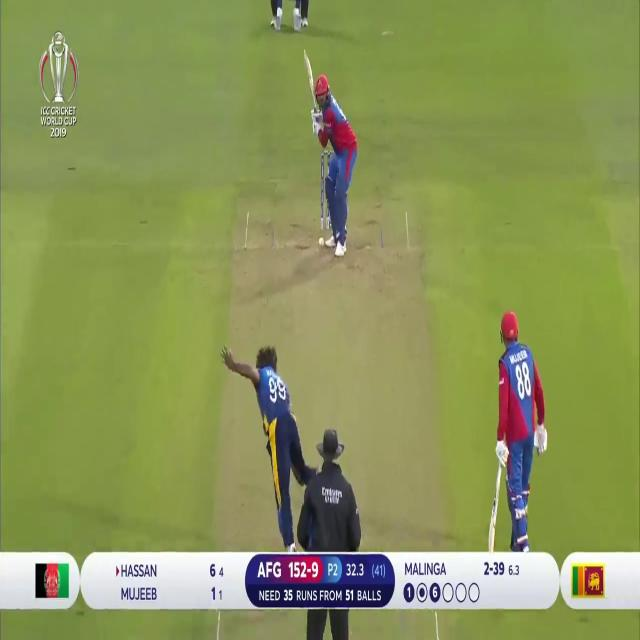ball: (316, 233, 326, 251)
